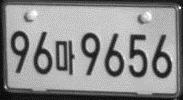5: (127, 33, 149, 78)
6: (151, 34, 173, 78), (103, 32, 124, 77), (32, 32, 52, 74)
9: (80, 31, 101, 77), (10, 29, 30, 73)
마: (54, 40, 75, 76)
